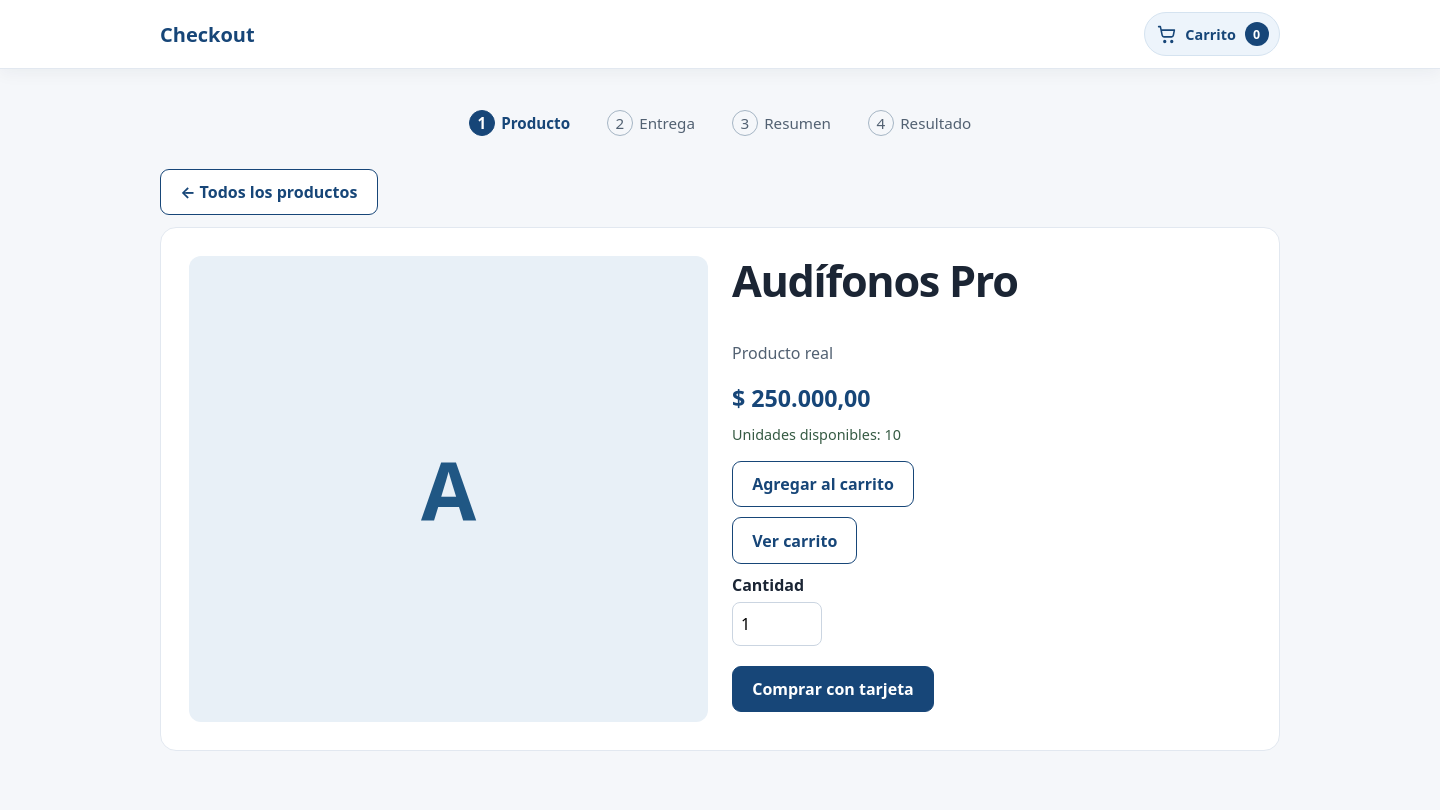
Test case: avisa también al agregar desde el detalle del producto
Click the button "Agregar al carrito" at (823, 484), box [732, 461, 914, 507]
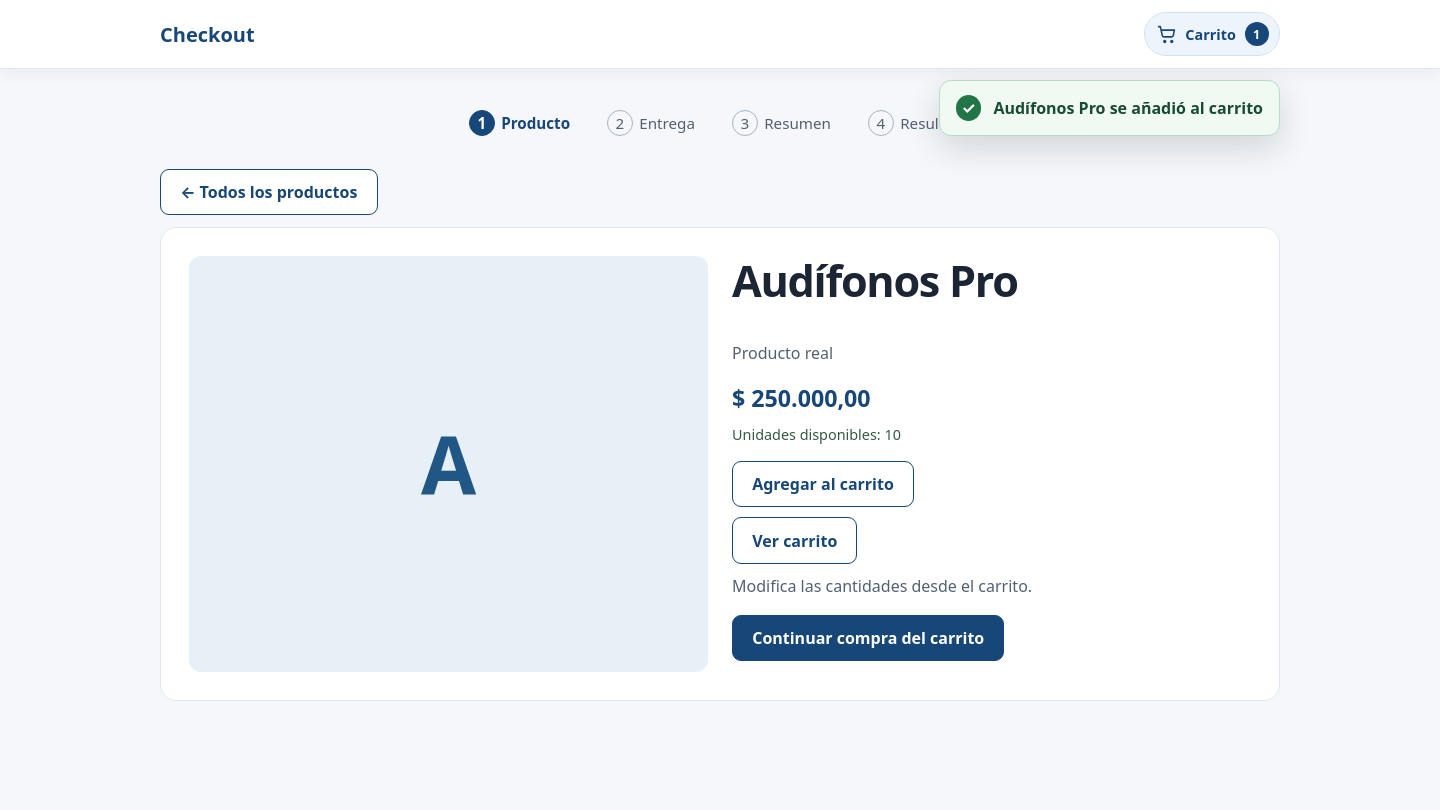
Check: the message shows "Audífonos Pro se añadió al carrito", box [939, 80, 1280, 136]
